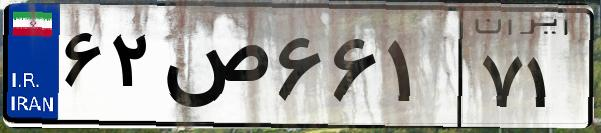1: (385, 28, 445, 110), (525, 38, 570, 115)
2: (110, 28, 158, 98)
6: (270, 28, 330, 110), (330, 28, 385, 110), (57, 26, 110, 100)
7: (475, 38, 525, 113)
ص: (158, 20, 270, 120)
